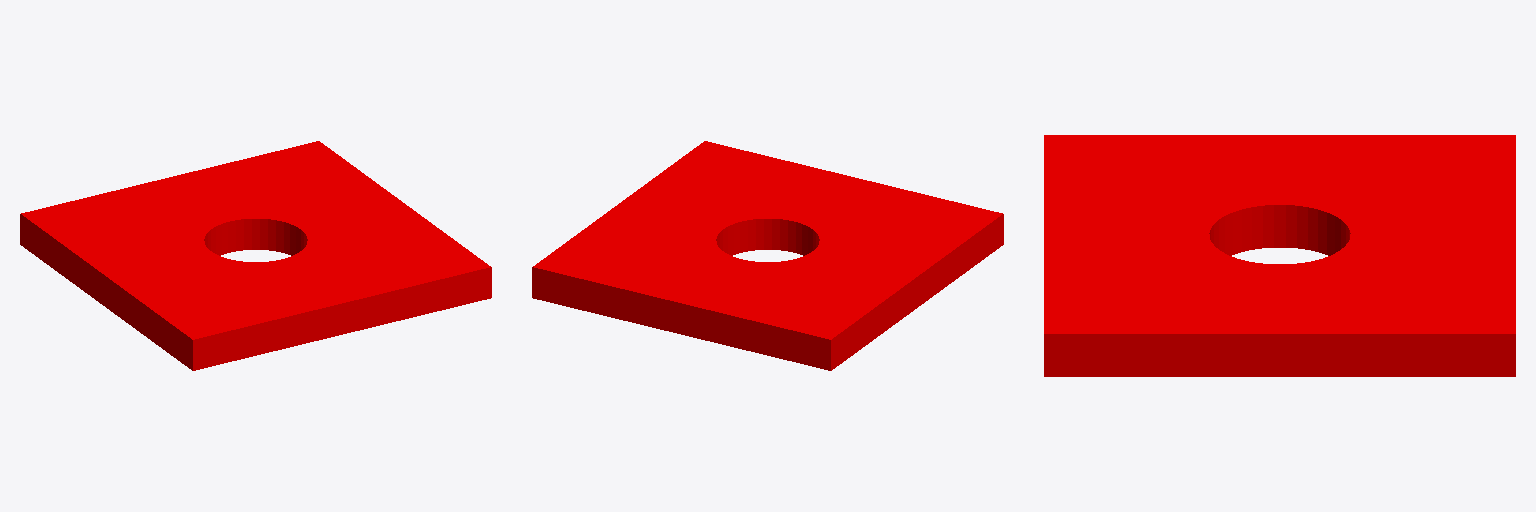
robot.urdf — circular_window:
<?xml version="1.0"?>
<robot name="circular_window">
  <link name="base_link">

    <visual>
      <geometry>
        <mesh filename="circular_window_small.stl" scale="0.005 0.005 0.005"/>
      </geometry>
      <material name="red">
            <color rgba="1 0 0 1"/>
      </material>
    </visual>

    <collision>
      <geometry>
        <mesh filename="circular_window_small.stl" scale="0.005 0.005 0.005"/>
      </geometry>
    </collision>

    <inertial>
        <origin xyz="0 0 0" rpy="0 0 0" />
        <mass value="0.1" />
        <inertia ixx="0.1" ixy="0.1" ixz="0.1" iyy="0.1" iyz="0.1" izz="0.1" />
    </inertial>

  </link>
</robot>

--- Facts derived from the render (not from the file) ---
Views: 3 orthographic renders of the robot side by side, from view 1: azimuth 30°, elevation 25°; view 2: azimuth 150°, elevation 25°; view 3: azimuth 270°, elevation 25°.
Robot: circular_window — 1 links, 0 joints (none); root link base_link; default pose: all joints at 0.
Visible links, largest first — view 1: base_link; view 2: base_link; view 3: base_link.
Link boxes in pixels (x1,y1,x2,y2): base_link: (20, 141, 491, 370); base_link: (532, 141, 1003, 370); base_link: (1044, 135, 1515, 376).
Size in the robot's own frame: 0.5 by 0.5 by 0.05 metres.
1 mesh visuals loaded from 1 distinct referenced files (1 binary STL).